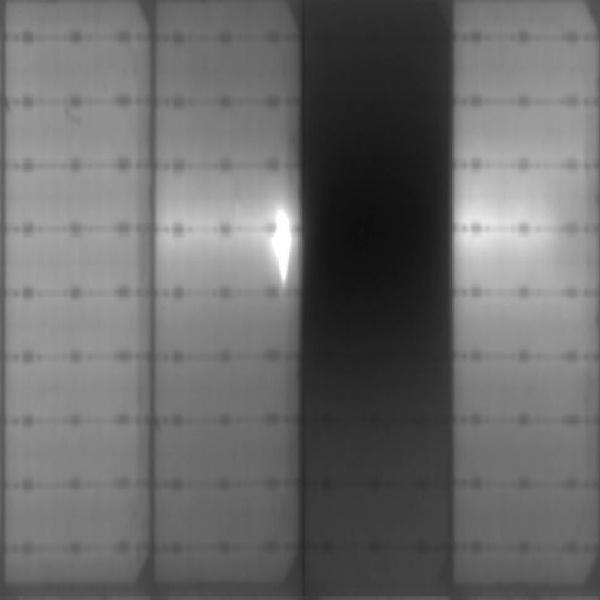hot_spot: (270, 200, 290, 284)
no_electricity: (302, 6, 452, 590)
